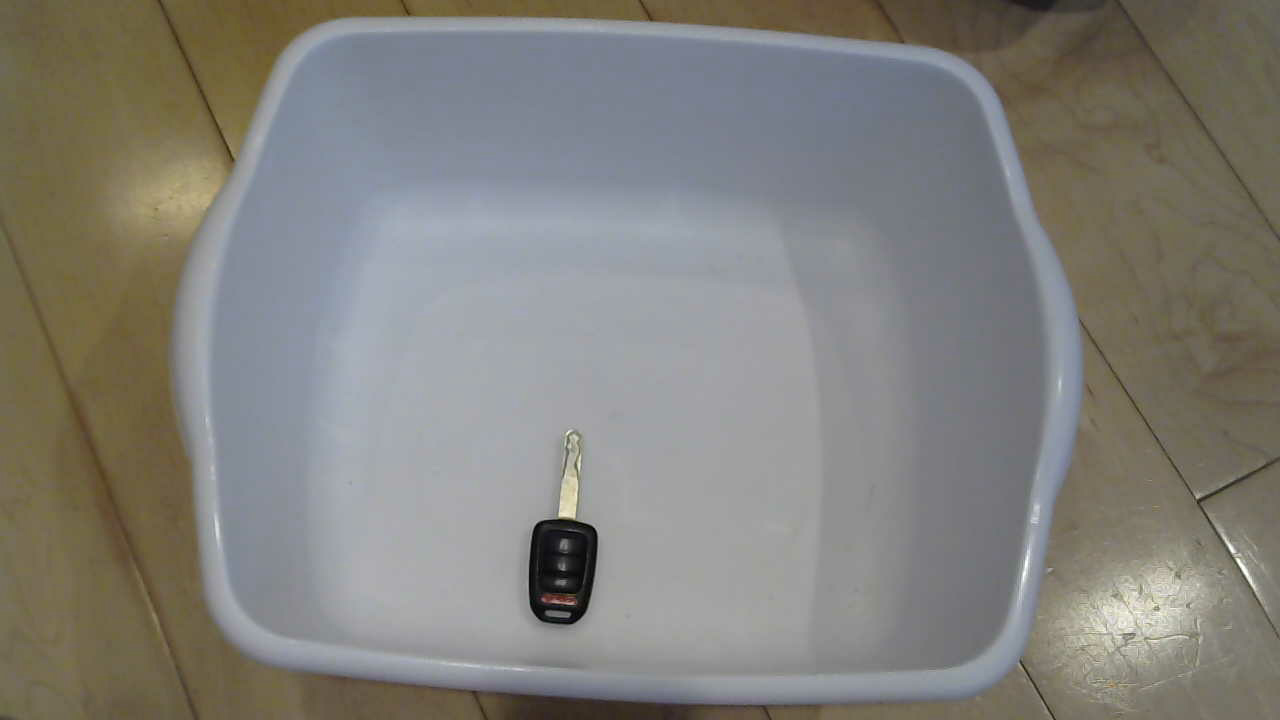key: (489, 429, 643, 634)
